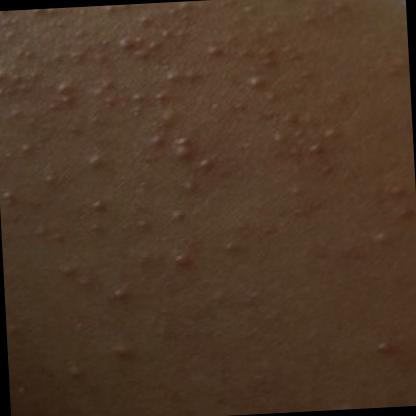Chicken Skin: (0, 0, 344, 310)
